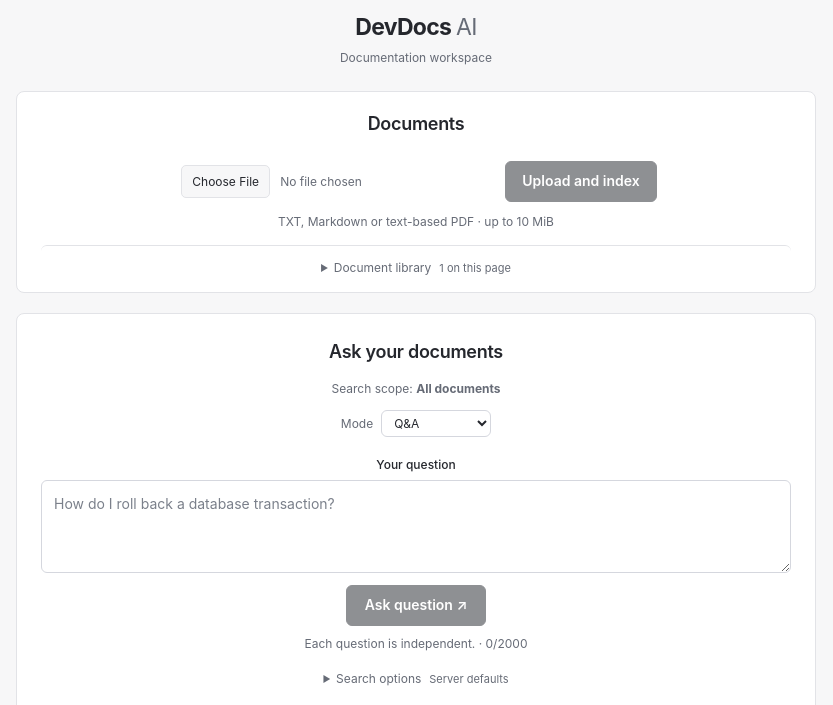
Scenario: uses assistant mode to inspect selected document metadata without showing it as generated evidence
Click the heading "Document library1 on this page": [422, 268] box [334,260,511,275]
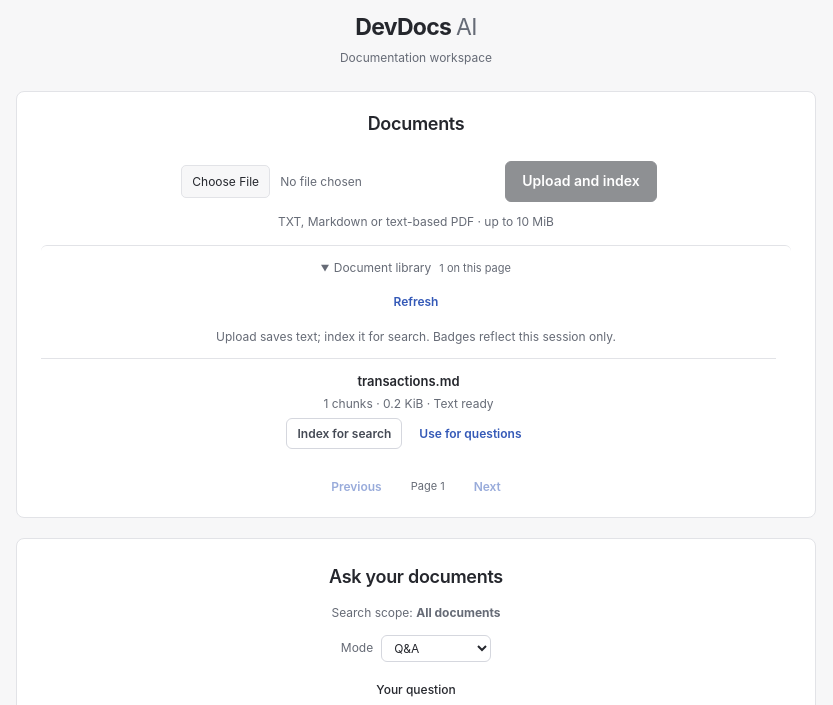
Click the button with aria-label "Use for questions: transactions.md": [470, 434] box [410,418,530,449]
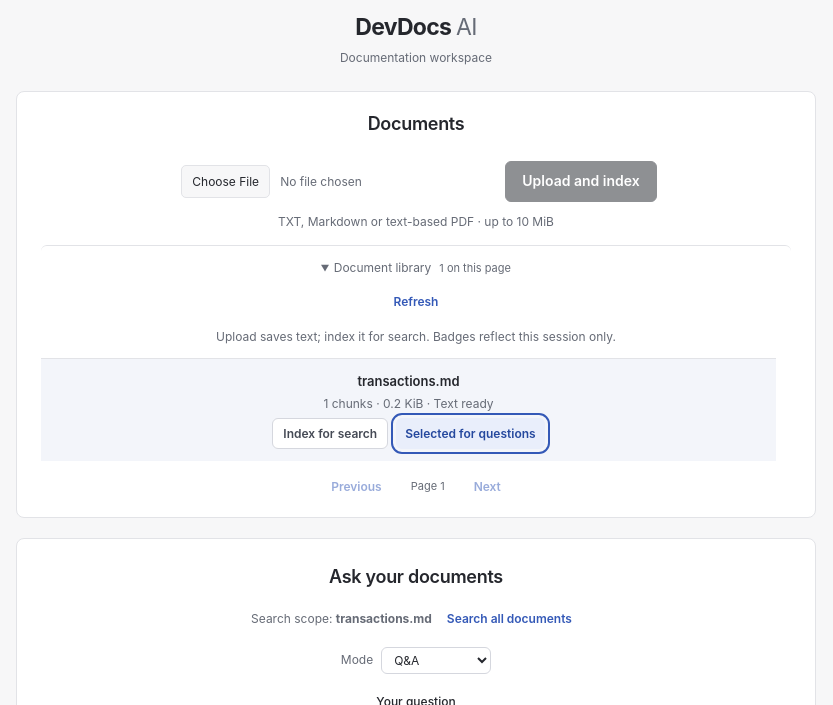
Select "Assistant" in the dropdown named "Assistant mode": [436, 660] box [381,647,491,674]
(page scrolled)
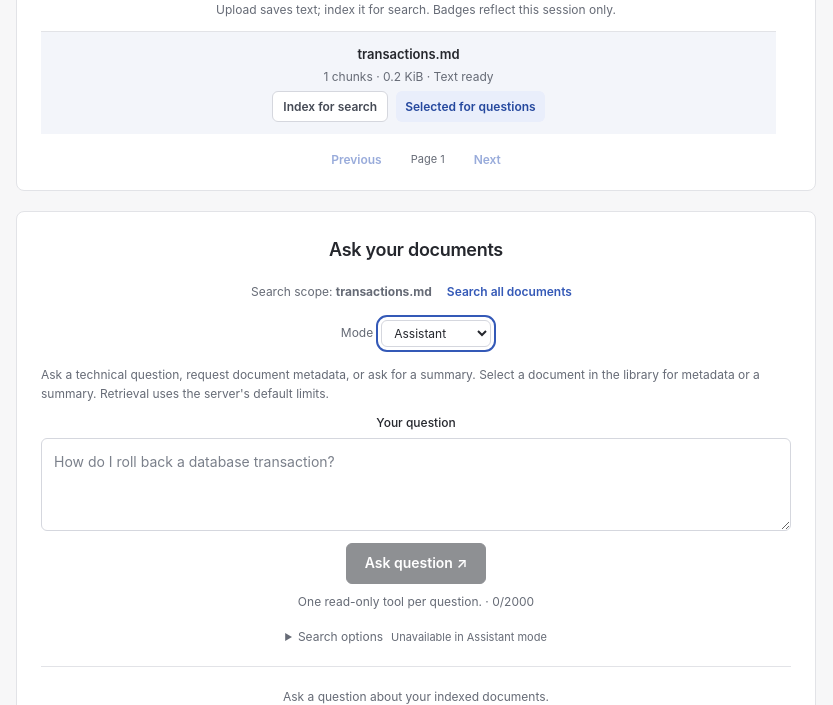
expect the element named "Maximum source chunks" is disabled: met, box [298,629,547,644]
In the text box labelled "Your question": [416, 485] box [41,438,791,531], type "What is this document size?"
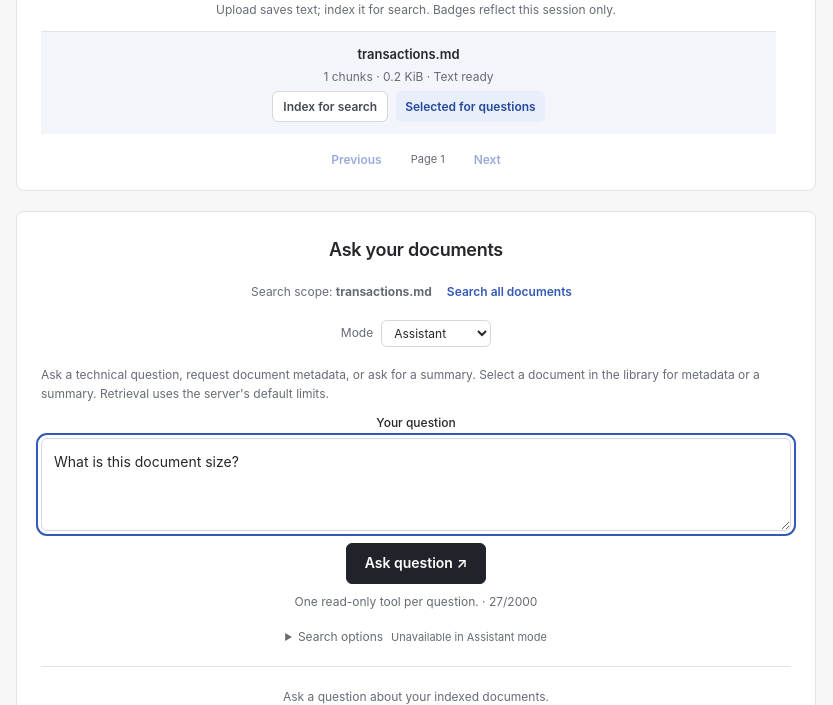
Click the button "Ask question ↗": [416, 564] box [346,543,486,584]
(page scrolled)
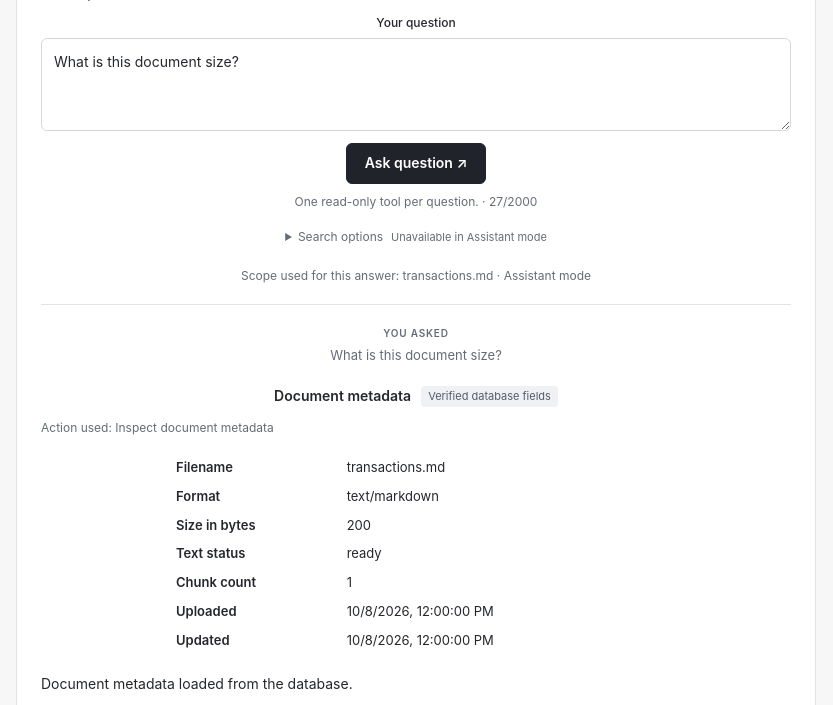
expect the heading "Document metadata" is shown: met, box [274,386,411,408]
expect the text "Verified database fields" is shown: met, box [421,386,558,407]
expect the text "200" is shown: met, box [347,517,371,533]
